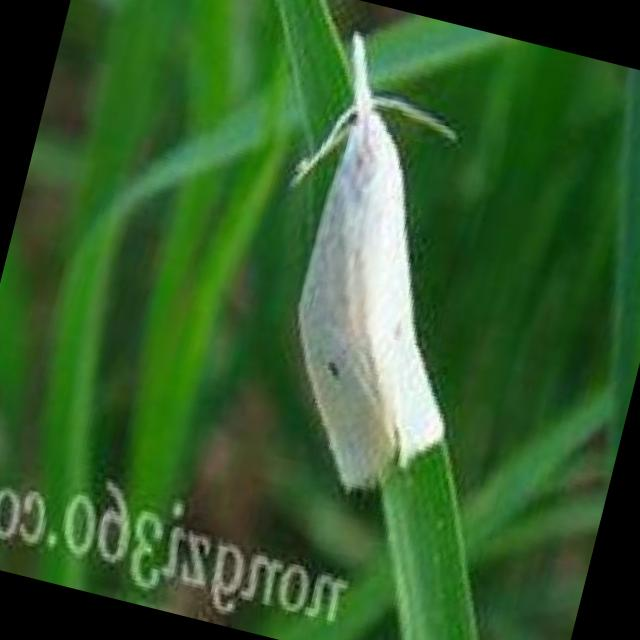stem-borer: (285, 28, 463, 509)
